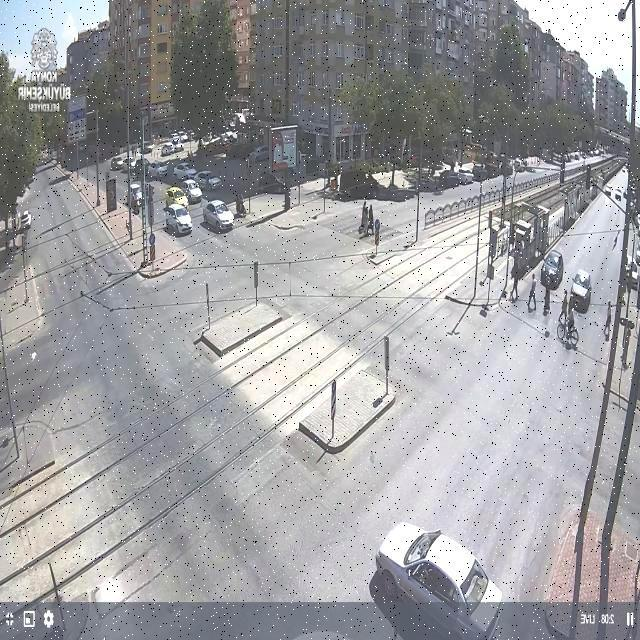Car: (372, 521, 502, 637), (570, 270, 592, 313), (206, 202, 235, 234), (540, 251, 564, 289), (165, 204, 192, 234), (194, 170, 223, 192), (179, 179, 203, 203), (165, 187, 189, 210), (434, 171, 460, 188), (173, 162, 197, 180), (625, 258, 639, 288), (127, 183, 143, 209), (248, 145, 270, 162), (148, 162, 170, 178), (472, 165, 491, 181), (132, 158, 151, 174), (18, 210, 32, 230), (456, 171, 474, 185), (220, 130, 238, 144), (121, 157, 138, 171), (610, 186, 624, 202), (110, 157, 124, 171), (178, 133, 189, 143)
